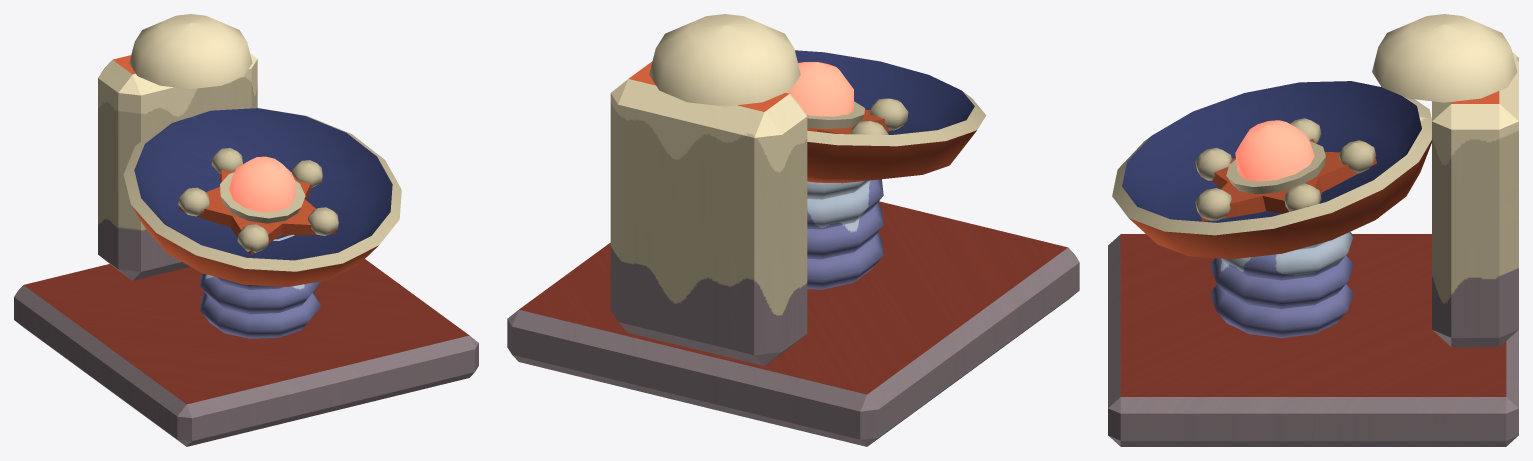
The model's file is R4X_ExplosiveTrapDeployer_LOD1.glb.
The picture shows the model from 3 angles, left to right: view 1: azimuth 30°, elevation 25°; view 2: azimuth 150°, elevation 25°; view 3: azimuth 270°, elevation 25°; orthographic projection. The views are drawn at different scales.
Visible parts, largest first — view 1: R4X_ExplosiveTrapDeployer_LOD1; view 2: R4X_ExplosiveTrapDeployer_LOD1; view 3: R4X_ExplosiveTrapDeployer_LOD1.
Boxes of the visible parts, left/top/right/bottom form: R4X_ExplosiveTrapDeployer_LOD1: left=14, top=14, right=478, bottom=446; R4X_ExplosiveTrapDeployer_LOD1: left=507, top=14, right=1079, bottom=446; R4X_ExplosiveTrapDeployer_LOD1: left=1108, top=14, right=1518, bottom=446.
Size of the model in its own units: 0.52 by 0.476 by 0.52.
Materials: 5 (4 with a texture image).
